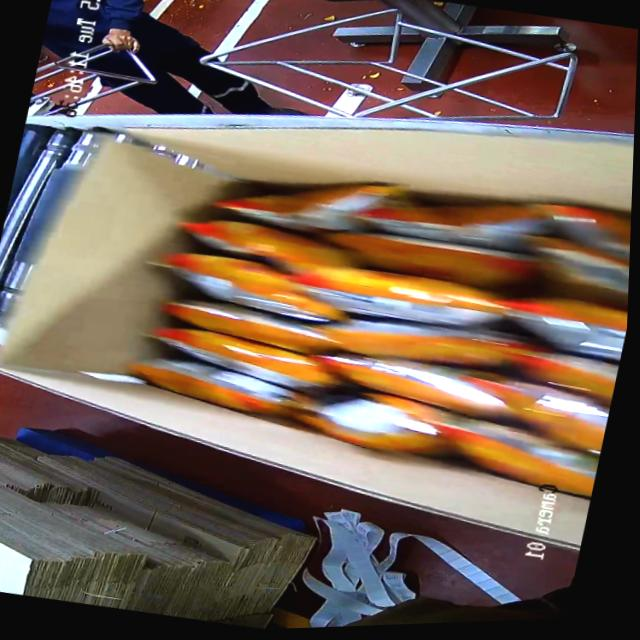FRENCH_CHEESE: (121, 144, 634, 516)
